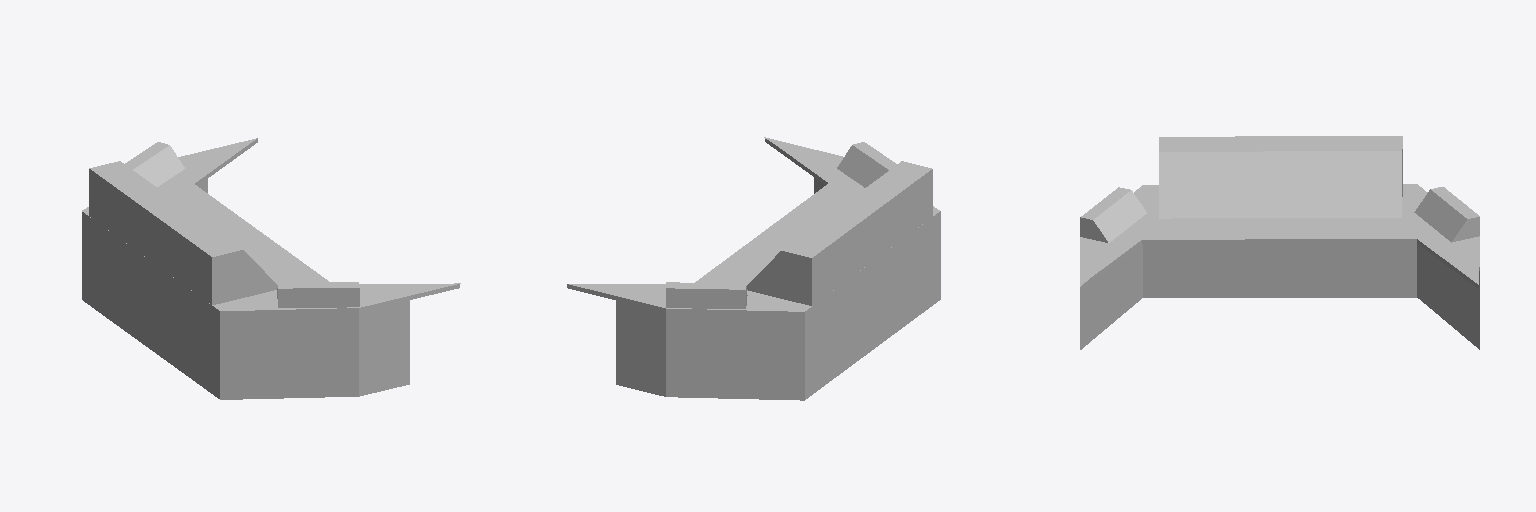
Rendered from poste.obj.
3 views of the same model, side by side, from view 1: azimuth 30°, elevation 25°; view 2: azimuth 150°, elevation 25°; view 3: azimuth 270°, elevation 25° (orthographic).
Size of the model in its own units: 2.24 by 1.39 by 3.69.